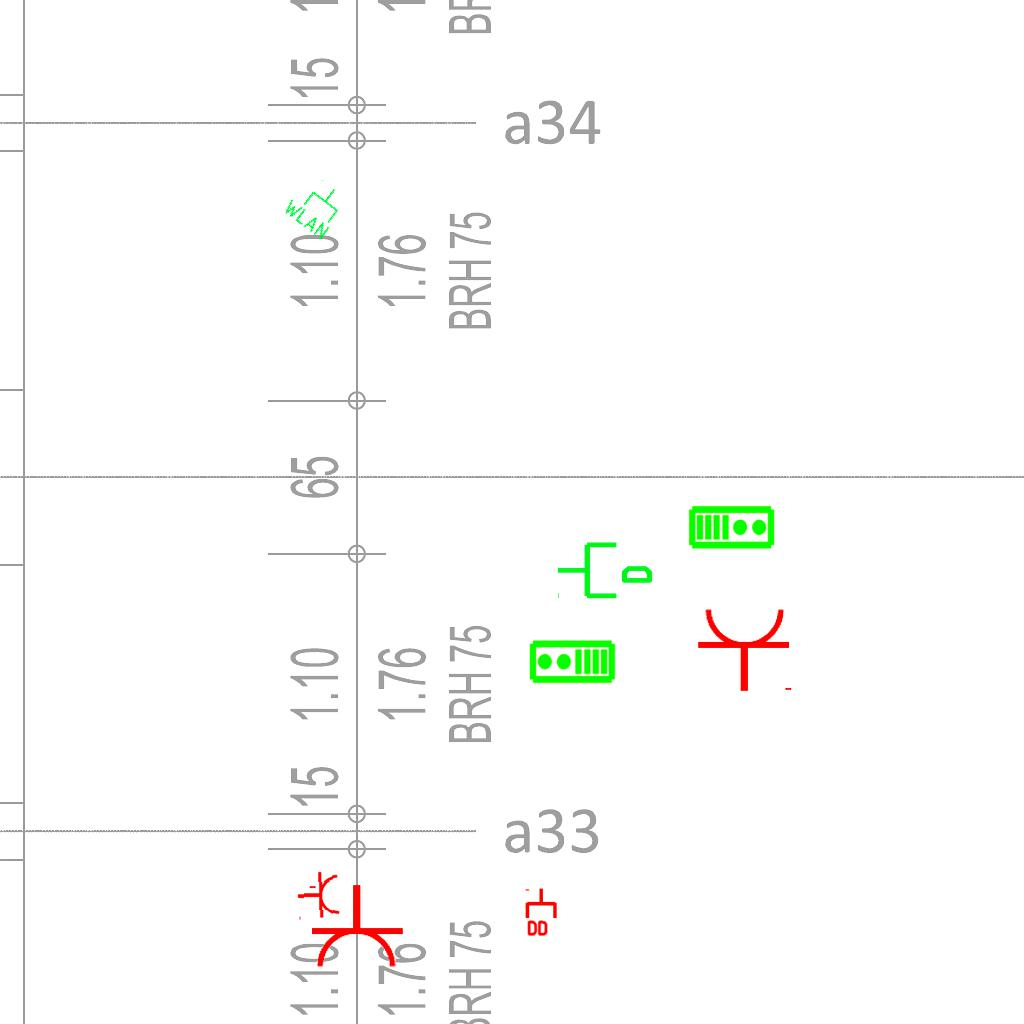Datenanschluss_einfach: (555, 534, 655, 603)
Datenanschluss_zweifach: (525, 887, 559, 938)
Gegensprechanlage_mit_Video: (528, 639, 616, 686), (688, 503, 776, 550)
Schukosteckdose_einfach: (696, 606, 796, 693), (305, 883, 405, 970), (296, 870, 341, 922)
WLAN: (279, 169, 353, 243)
